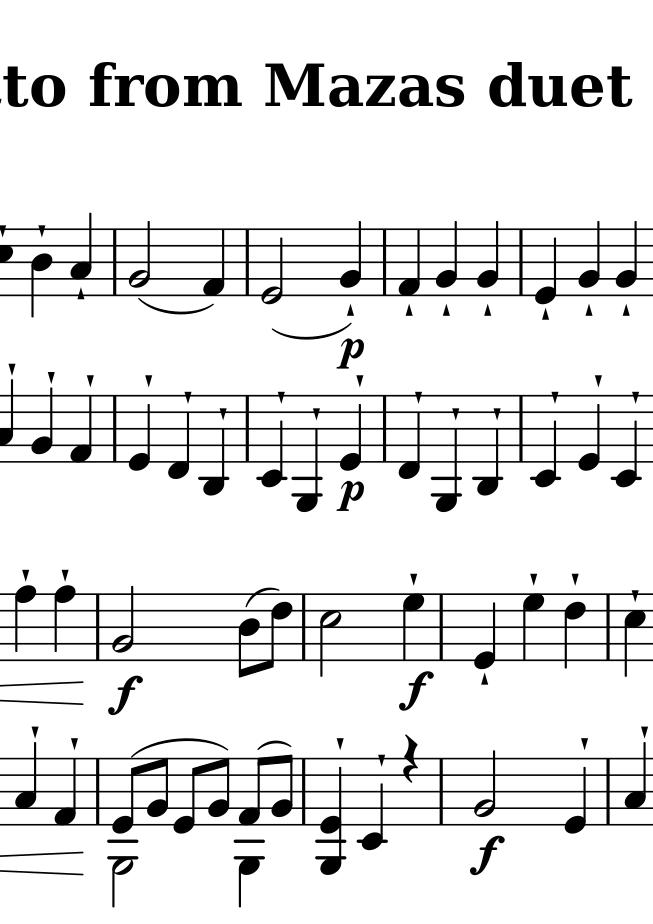2_0: (259, 225, 285, 307)
2_2: (109, 582, 137, 662), (473, 748, 499, 827), (127, 219, 152, 296)
2_5: (318, 592, 343, 681)
4_-1: (396, 393, 423, 482), (166, 392, 191, 483)
4_-2: (257, 391, 286, 490), (611, 392, 640, 489), (358, 756, 387, 852), (531, 394, 559, 488)
4_-3: (473, 393, 501, 497), (202, 393, 228, 498)
4_-5: (432, 392, 461, 513), (292, 394, 320, 514)
4_-5_0: (316, 757, 348, 877)
4_0: (335, 393, 364, 471), (558, 756, 587, 834), (531, 226, 559, 306), (125, 394, 153, 474), (473, 591, 497, 671), (578, 393, 602, 472)
4_1: (68, 394, 95, 464), (202, 225, 227, 300), (396, 225, 421, 299), (55, 756, 79, 827)
4_2: (338, 218, 363, 298), (29, 387, 55, 463), (475, 219, 500, 298), (434, 219, 459, 297), (577, 220, 602, 298), (615, 219, 640, 296)
4_3: (622, 740, 648, 829), (13, 741, 39, 829), (69, 208, 94, 297)
4_4: (30, 226, 53, 314)
4_5: (622, 591, 646, 681)
4_6: (561, 592, 587, 671)
4_7: (400, 592, 428, 661), (519, 592, 545, 663)
4_8: (52, 584, 79, 664), (12, 585, 39, 661)
8_0: (171, 756, 205, 835), (110, 757, 141, 836)
8_1: (235, 755, 268, 830)
8_2: (269, 753, 296, 829), (145, 757, 170, 830), (206, 755, 230, 828)
8_4: (235, 593, 262, 679)
8_6: (261, 592, 293, 671)
Rests4: (401, 734, 420, 786)
Single_barline: (433, 758, 450, 825), (107, 396, 123, 462), (434, 593, 450, 658), (90, 592, 105, 661), (296, 757, 311, 826), (599, 759, 615, 823), (107, 227, 122, 295), (296, 593, 311, 659), (240, 396, 254, 462), (377, 397, 391, 462), (601, 594, 615, 659), (513, 230, 528, 290), (514, 397, 528, 461)
Slur: (132, 738, 230, 754), (137, 297, 218, 315), (273, 323, 355, 339), (245, 588, 280, 606), (255, 738, 291, 751)
Staccatissimo: (343, 303, 357, 319), (34, 223, 48, 238), (143, 372, 155, 389), (528, 572, 540, 589), (479, 672, 492, 686), (355, 372, 365, 389), (579, 736, 590, 751), (584, 301, 594, 317), (310, 405, 320, 421), (217, 406, 227, 422), (377, 752, 387, 768), (85, 373, 96, 387), (60, 567, 71, 581), (409, 570, 418, 587), (76, 287, 86, 302), (483, 302, 493, 317), (594, 372, 604, 387), (276, 389, 286, 404), (47, 369, 57, 384), (570, 572, 580, 587), (630, 588, 640, 603), (404, 303, 414, 317), (182, 390, 192, 404), (7, 361, 17, 375), (30, 724, 40, 738), (621, 302, 630, 317), (336, 735, 345, 750), (451, 406, 461, 419), (632, 389, 640, 405), (442, 303, 451, 317), (540, 307, 549, 321), (493, 406, 502, 420), (21, 568, 30, 582), (640, 724, 649, 738), (550, 391, 559, 404), (414, 389, 423, 402), (70, 736, 79, 749), (1, 223, 8, 237)
f: (465, 831, 505, 878), (397, 670, 435, 711), (109, 674, 144, 715)
p: (337, 476, 365, 514), (336, 336, 365, 367)
